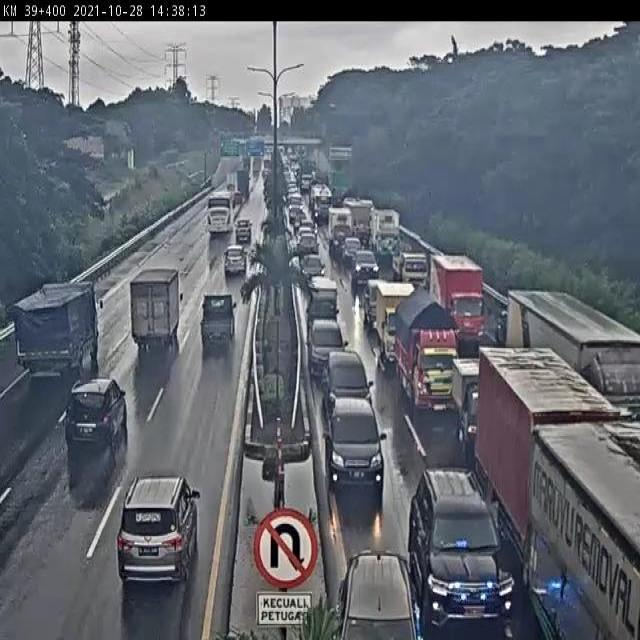big bus: (206, 196, 229, 236)
big truck: (480, 347, 634, 557), (529, 428, 640, 640), (501, 288, 640, 424), (22, 267, 110, 417), (137, 252, 195, 380), (394, 295, 456, 401), (428, 255, 480, 336), (376, 283, 418, 361)
car: (413, 452, 500, 616), (103, 475, 208, 596), (67, 357, 156, 475), (339, 537, 418, 640), (332, 388, 396, 492), (191, 269, 248, 371), (322, 348, 386, 428), (301, 316, 357, 363), (219, 249, 249, 288), (232, 223, 255, 252)
